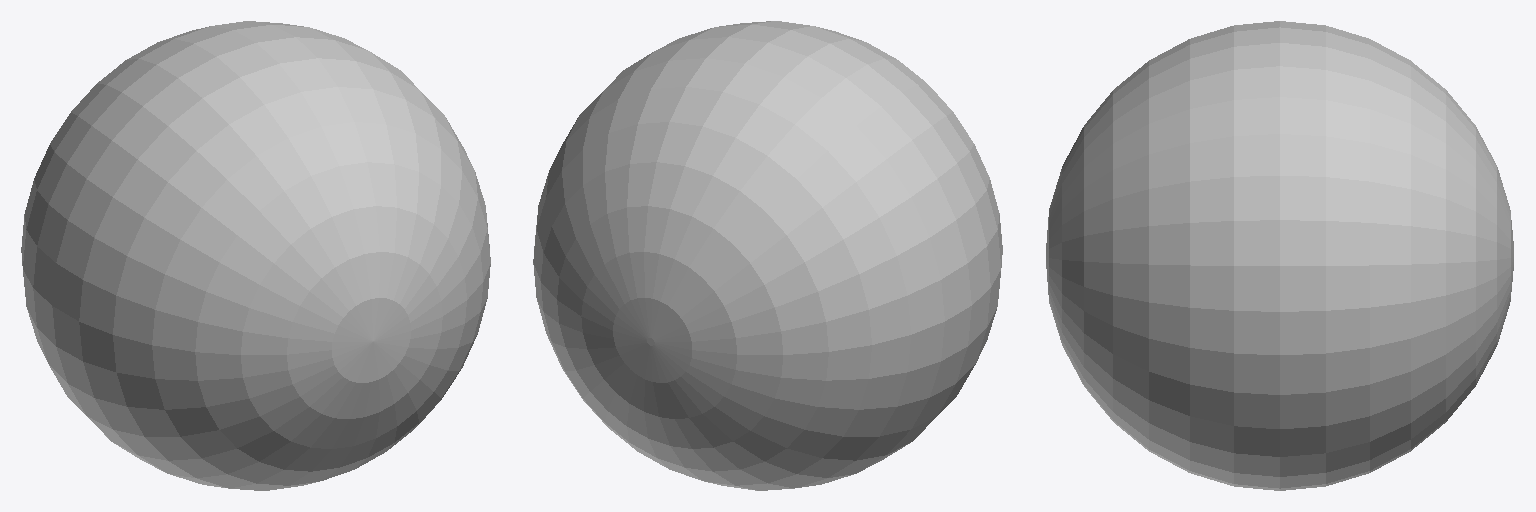
Rendered from earth.obj.
3 renders of one model, left to right at view 1: azimuth 30°, elevation 25°; view 2: azimuth 150°, elevation 25°; view 3: azimuth 270°, elevation 25°, orthographic.
Parts seen in each view (by area): view 1: Sphere.010; view 2: Sphere.010; view 3: Sphere.010.
Part boxes in pixels (left/top/right/bottom): Sphere.010: left=21, top=21, right=490, bottom=490; Sphere.010: left=533, top=21, right=1002, bottom=490; Sphere.010: left=1046, top=21, right=1513, bottom=490.
Bounding box in the file's own units: 6.28 × 6.28 × 6.26.